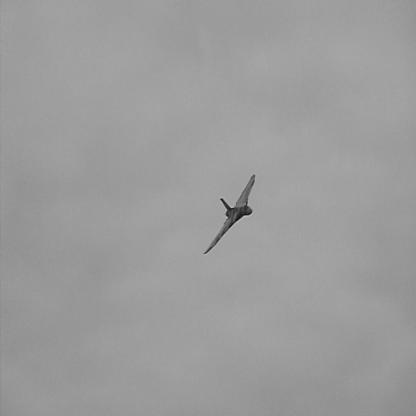Vulcan: (204, 174, 257, 256)
